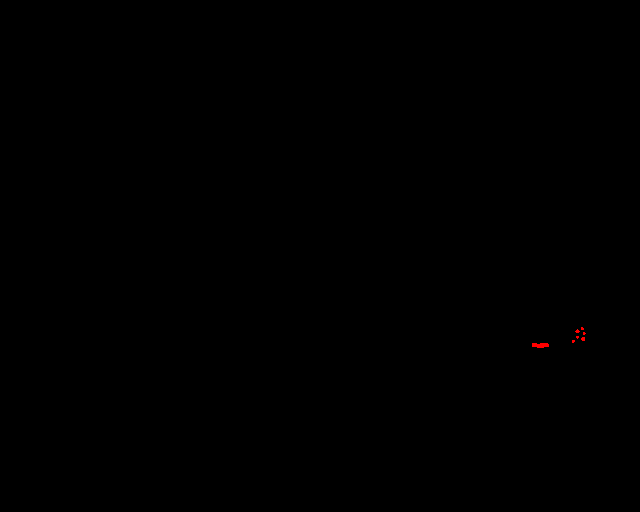Target: (532, 343, 549, 348), (575, 329, 580, 333), (581, 337, 585, 341), (581, 327, 584, 330), (583, 332, 586, 335), (576, 336, 579, 339), (572, 340, 575, 343)
